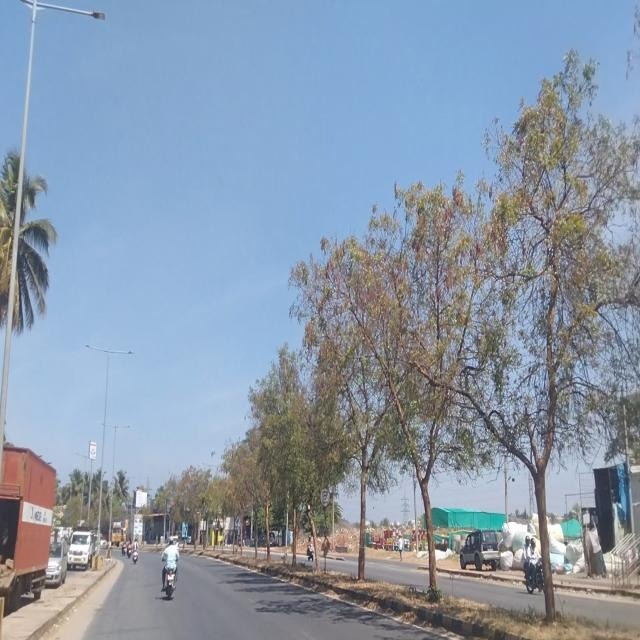bien_chi_dan: (319, 486, 331, 506)
